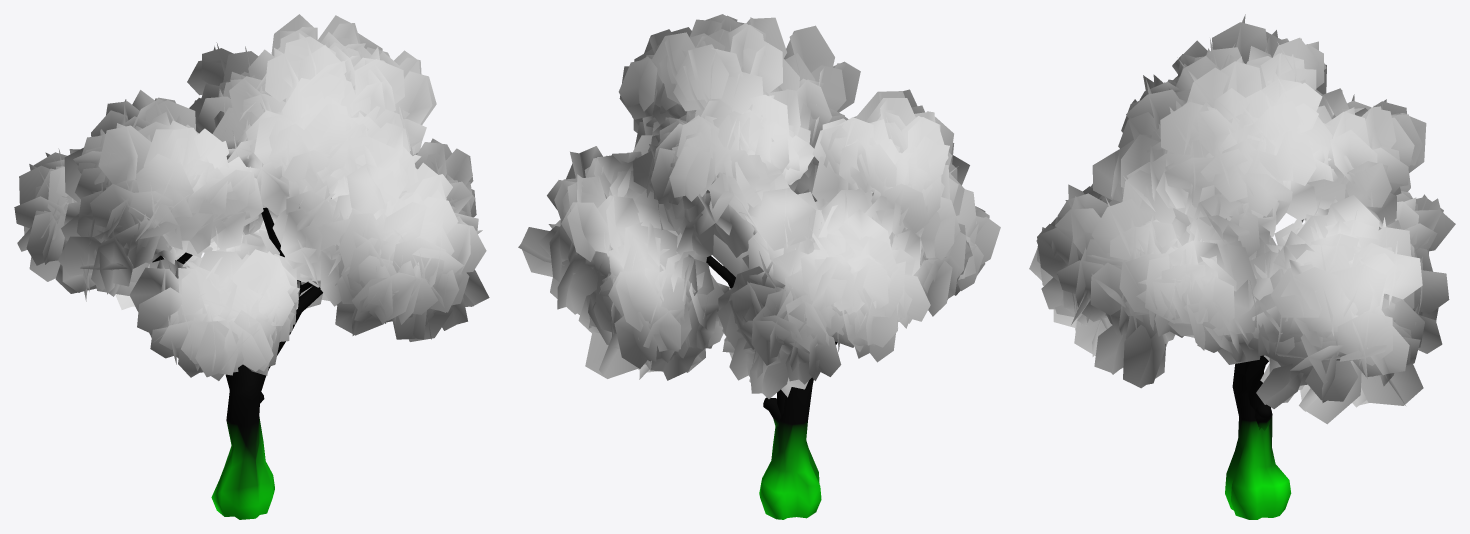
File: SM_OakTreeLarge1.FBX
3 renders of one model, left to right at view 1: azimuth 30°, elevation 25°; view 2: azimuth 150°, elevation 25°; view 3: azimuth 270°, elevation 25°, orthographic. The views are drawn at different scales.
Parts seen in each view (by area): view 1: SM_OakTreeLarge1_LOD0; view 2: SM_OakTreeLarge1_LOD0; view 3: SM_OakTreeLarge1_LOD0.
Part boxes in pixels (<box>): SM_OakTreeLarge1_LOD0: <box>14,14,489,519</box>; SM_OakTreeLarge1_LOD0: <box>518,14,1000,519</box>; SM_OakTreeLarge1_LOD0: <box>1029,14,1455,519</box>.
Size of the model in its own units: 2939 by 2687 by 3297.
